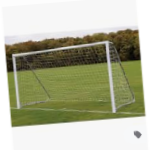goals: (11, 40, 136, 112)
